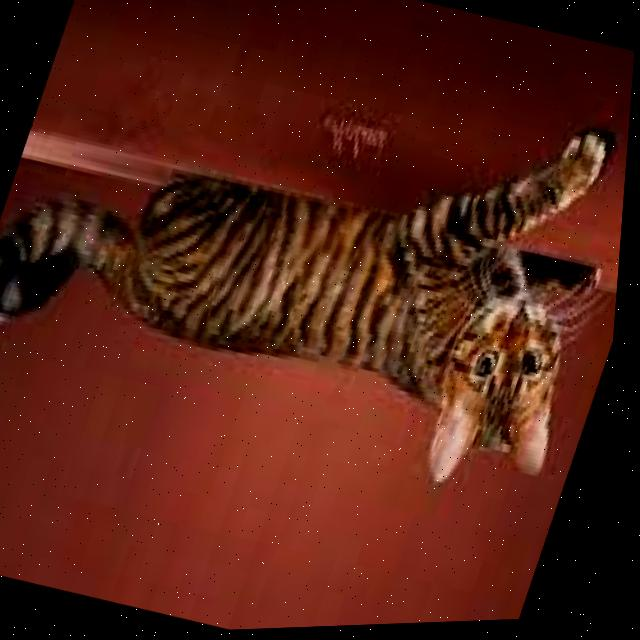Toyger: (0, 0, 640, 536)
